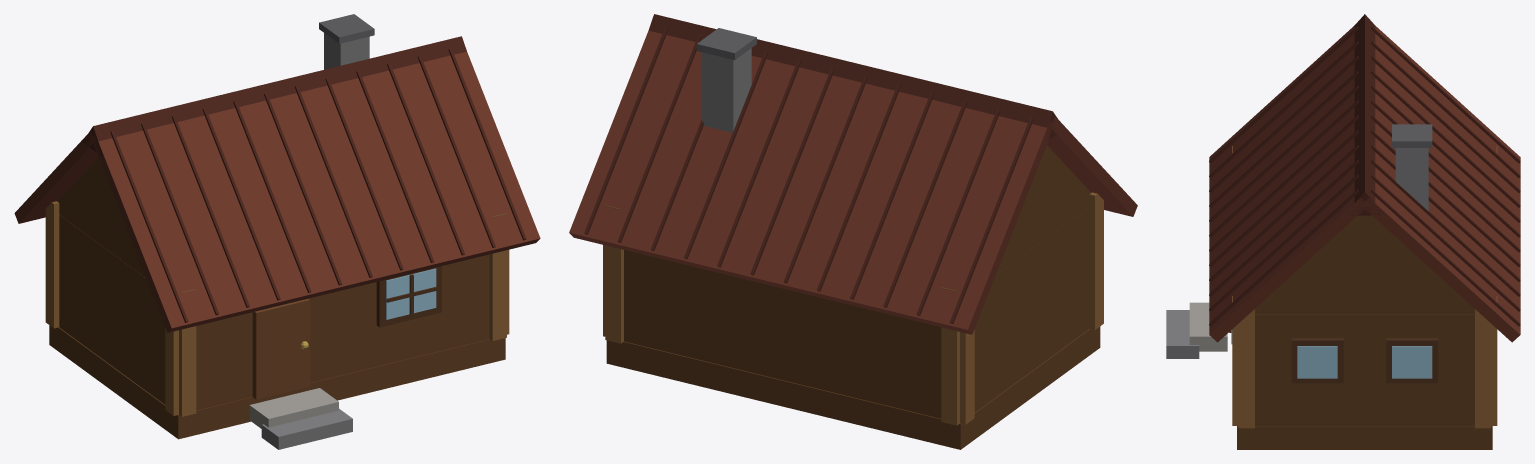
The model's file is Mtn_Hut_Col.fbx.
The picture shows the model from 3 angles, left to right: view 1: azimuth 30°, elevation 25°; view 2: azimuth 150°, elevation 25°; view 3: azimuth 270°, elevation 25°; orthographic projection. The views are drawn at different scales.
Visible parts, largest first — view 1: Mtn_Hut_Col; view 2: Mtn_Hut_Col; view 3: Mtn_Hut_Col.
Part boxes in pixels (x1=…): Mtn_Hut_Col: x1=14, y1=14, x2=540, y2=449; Mtn_Hut_Col: x1=569, y1=14, x2=1137, y2=449; Mtn_Hut_Col: x1=1166, y1=14, x2=1520, y2=449.
Bounding box in the file's own units: 17.8 × 13.2 × 14.99.
